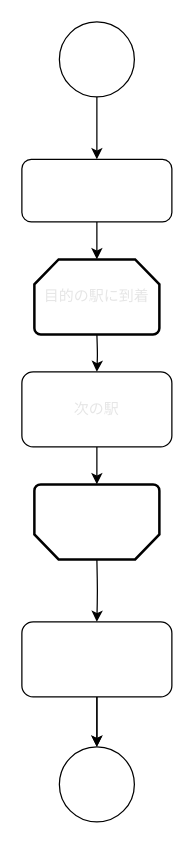
Image size: 194x844. Some labels were removed from this diagram. Each missing label, with the centre of its shape:
電車に乗る: (x=96, y=190)
電車を降りる: (x=96, y=659)
